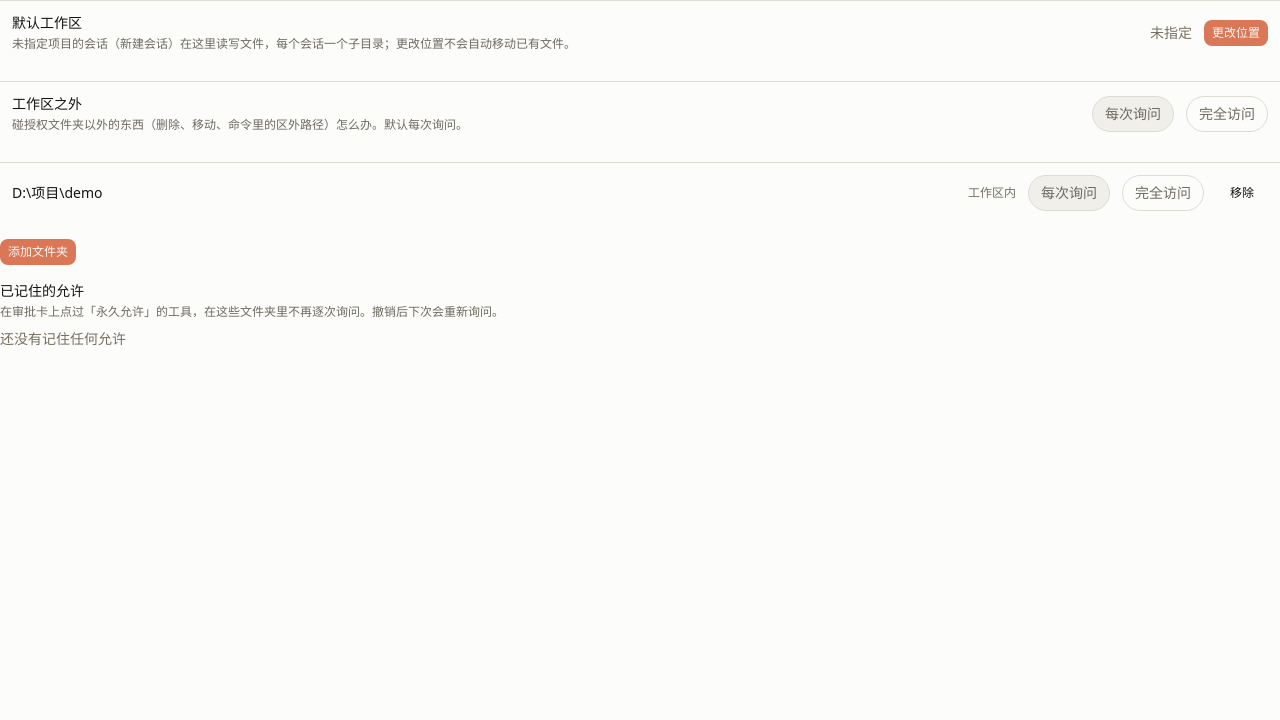
Test: 工作区组 · 模式切换（T13：full 走显式确认） › 切模式失败：选中态不变（不乐观改），行内报错
Click the button with test id "workspace-0-mode-full".
click(1163, 193)  # box [1122,175,1204,211]
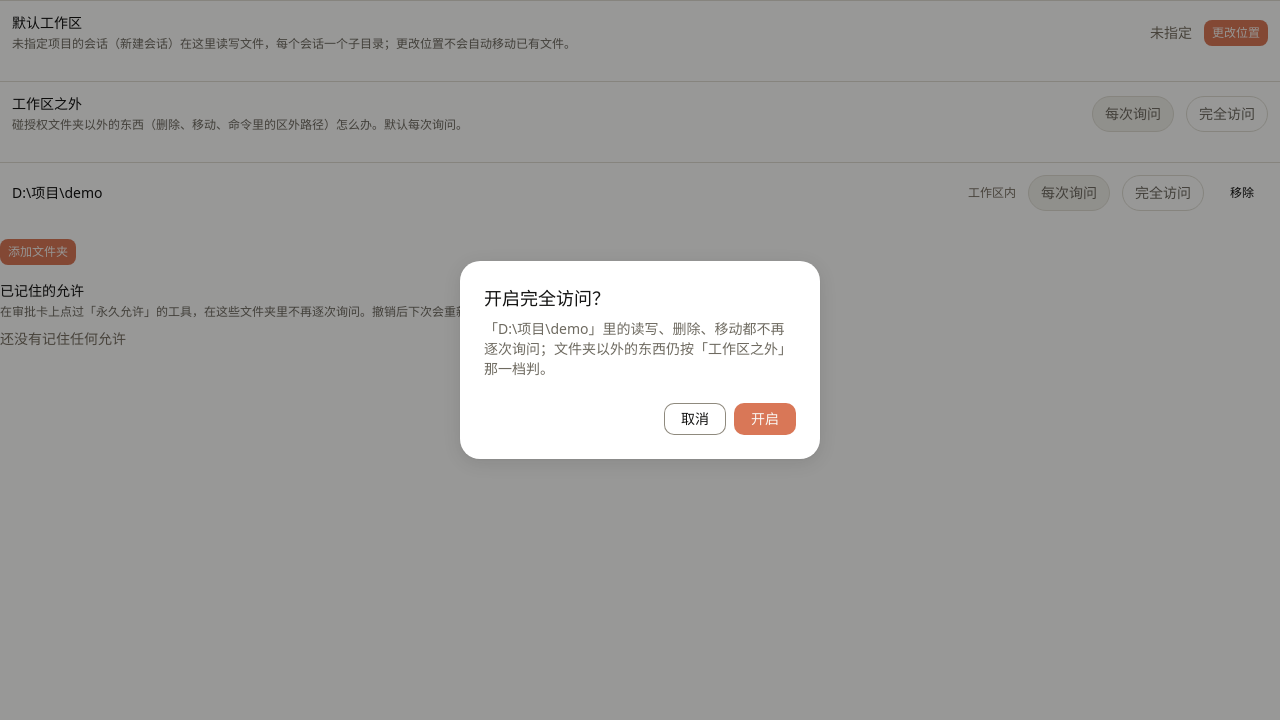
Click the button with test id "workspace-full-confirm".
click(765, 419)  # box [734,403,796,435]
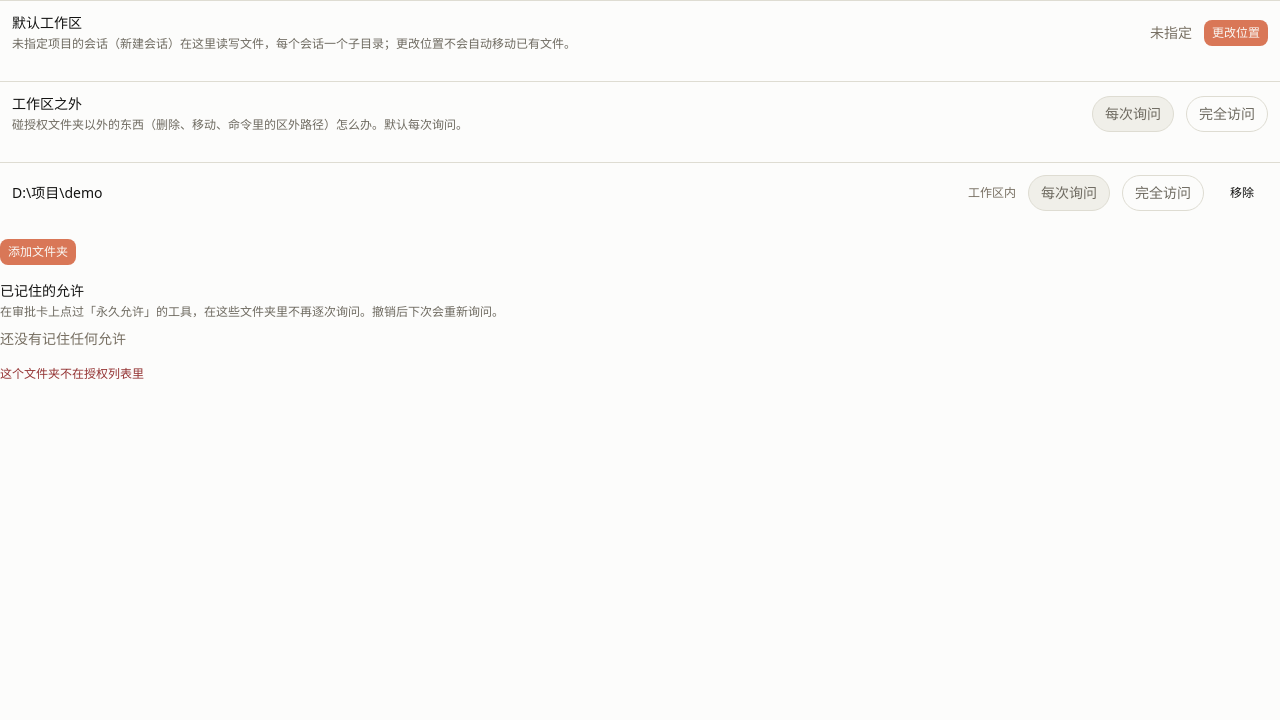
Expected: the text with test id "workspace-error" shows "不在授权列表里", [0,365,144,382]
